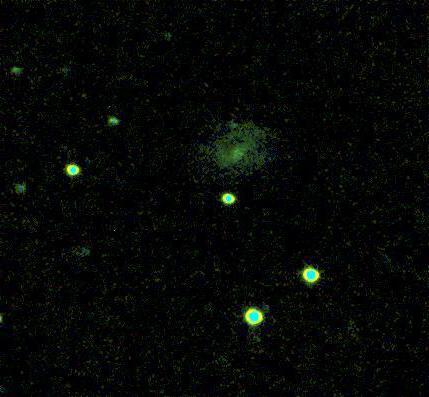star: (216, 106, 246, 136)
